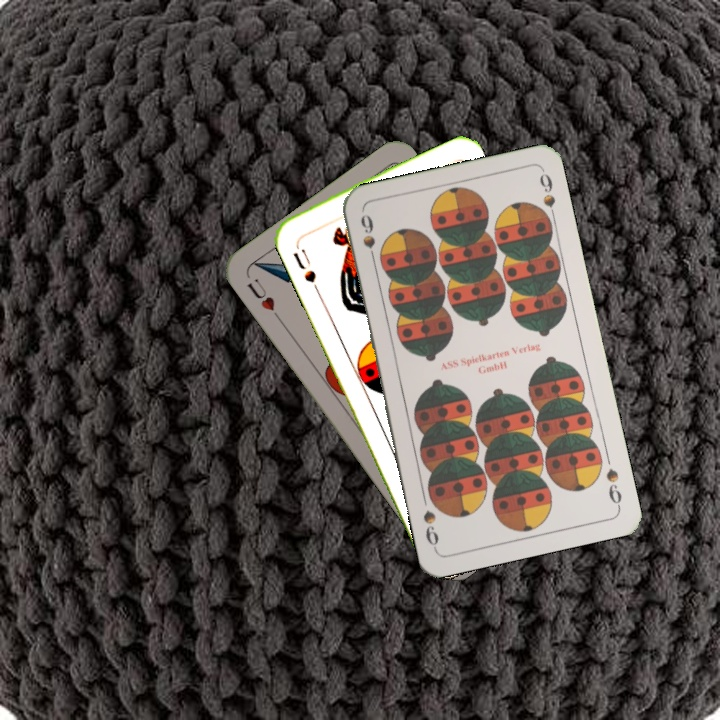HU: (242, 274, 284, 323)
S9: (356, 210, 379, 268), (602, 463, 625, 510)
SU: (291, 235, 319, 285)
